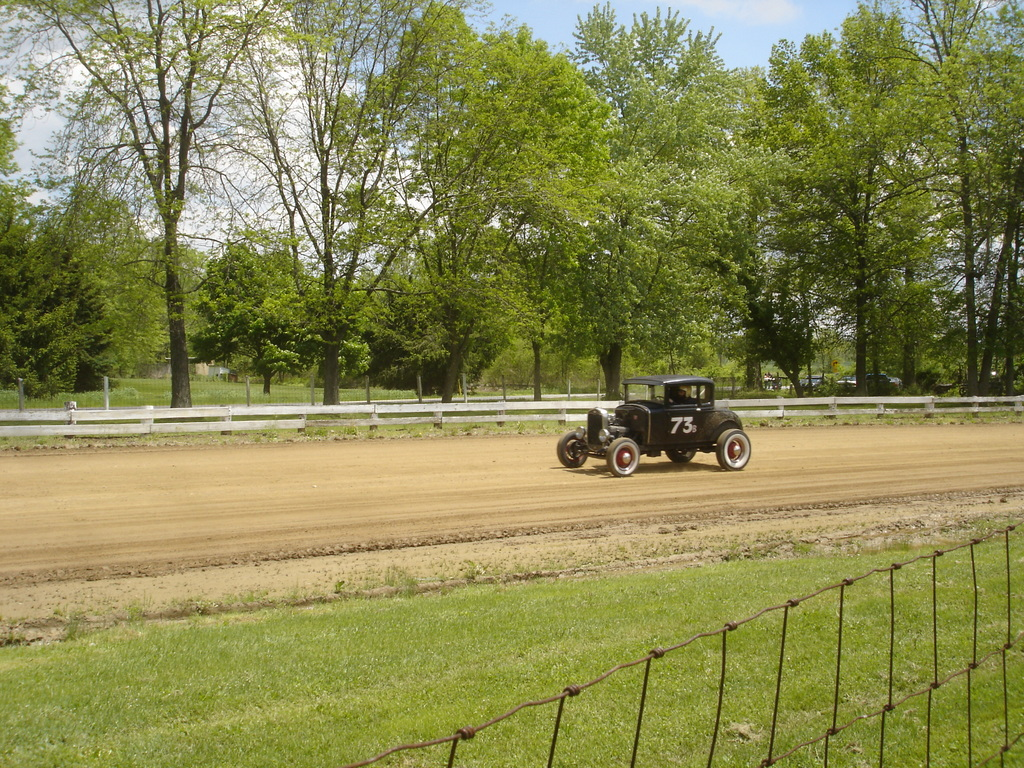Car: (558, 376, 752, 483)
